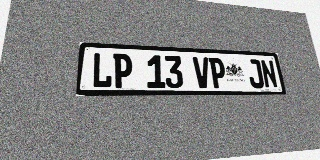1: (147, 55, 165, 88)
3: (164, 56, 183, 88)
J: (246, 59, 265, 88)
L: (91, 52, 113, 88)
N: (260, 60, 278, 88)
P: (113, 53, 132, 88), (208, 57, 227, 88)
V: (192, 57, 211, 88)
